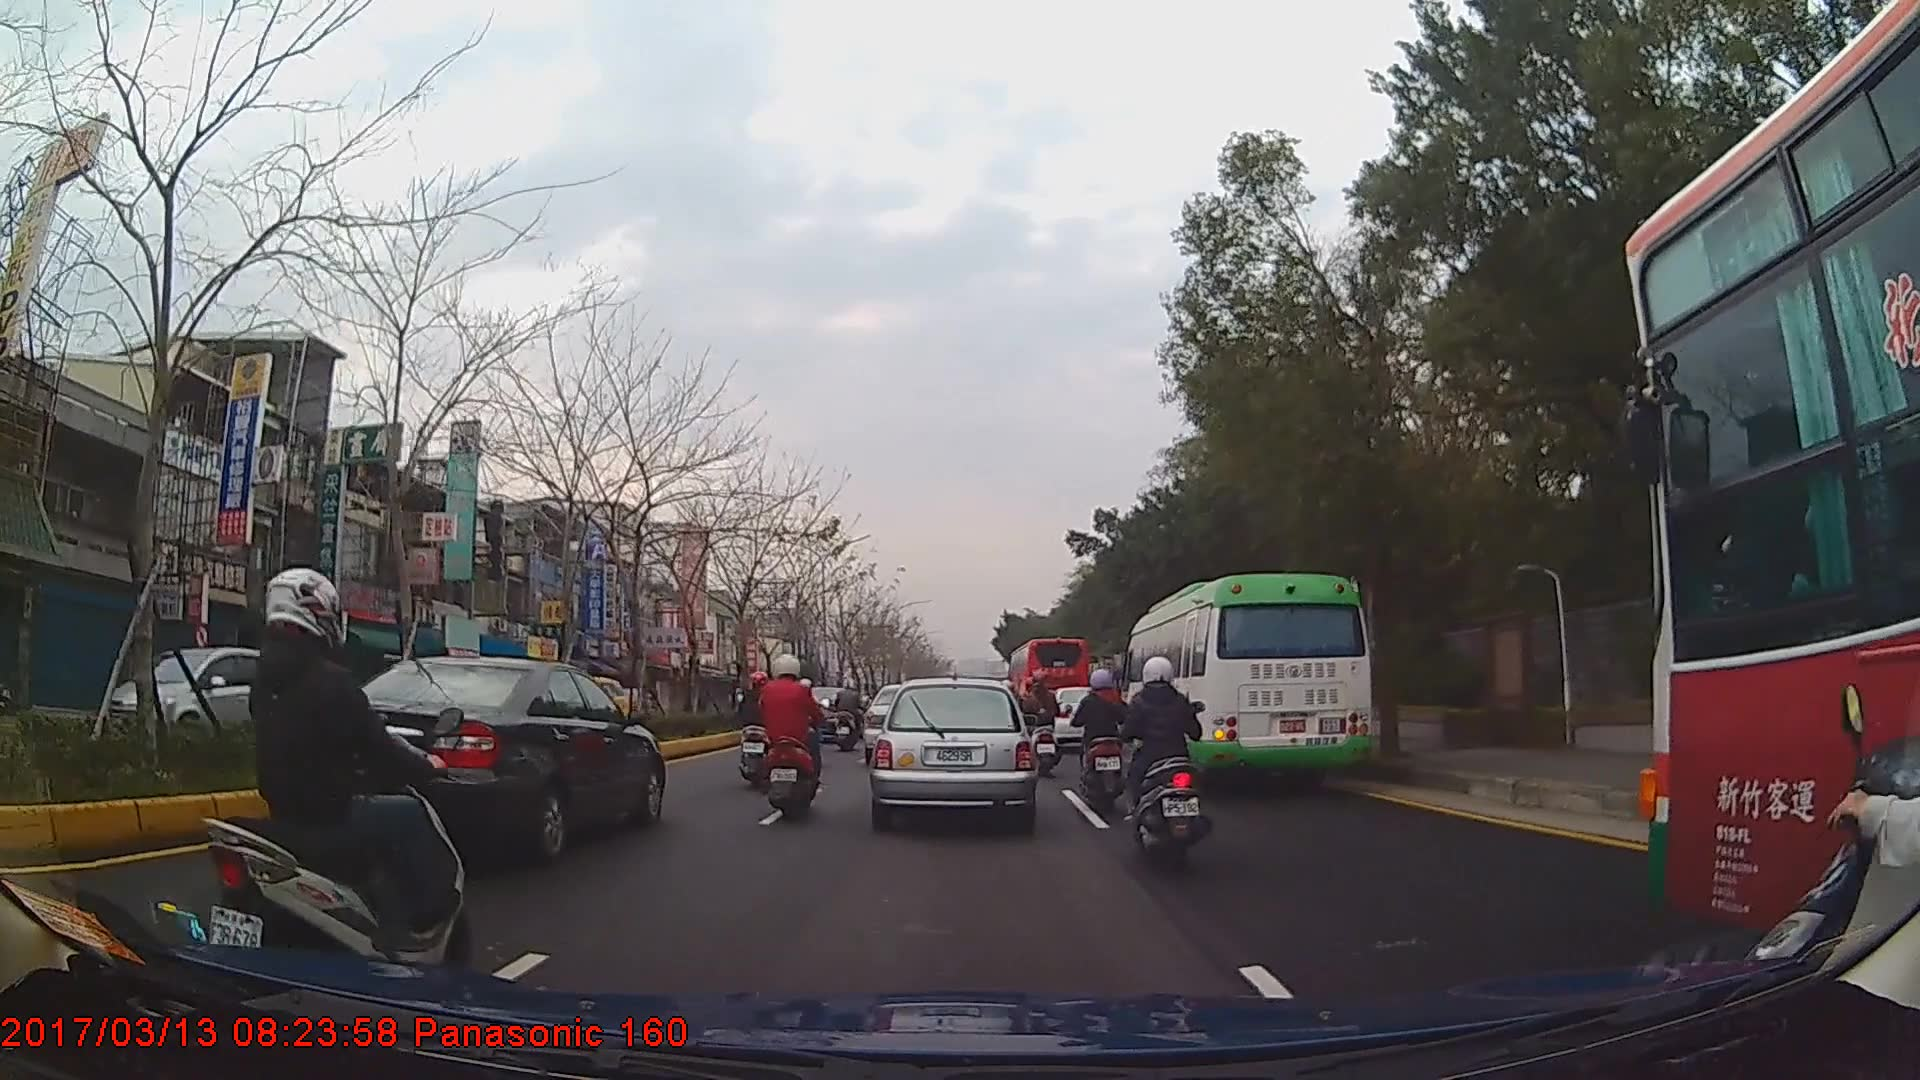rider: (202, 562, 467, 999), (1126, 654, 1216, 864), (756, 650, 822, 823), (1069, 666, 1134, 815), (1022, 670, 1064, 779), (834, 678, 869, 752)
vehicle: (1622, 0, 1920, 1004), (292, 655, 664, 861), (1120, 571, 1378, 791), (870, 675, 1033, 827), (108, 647, 295, 748), (1008, 634, 1092, 730)
